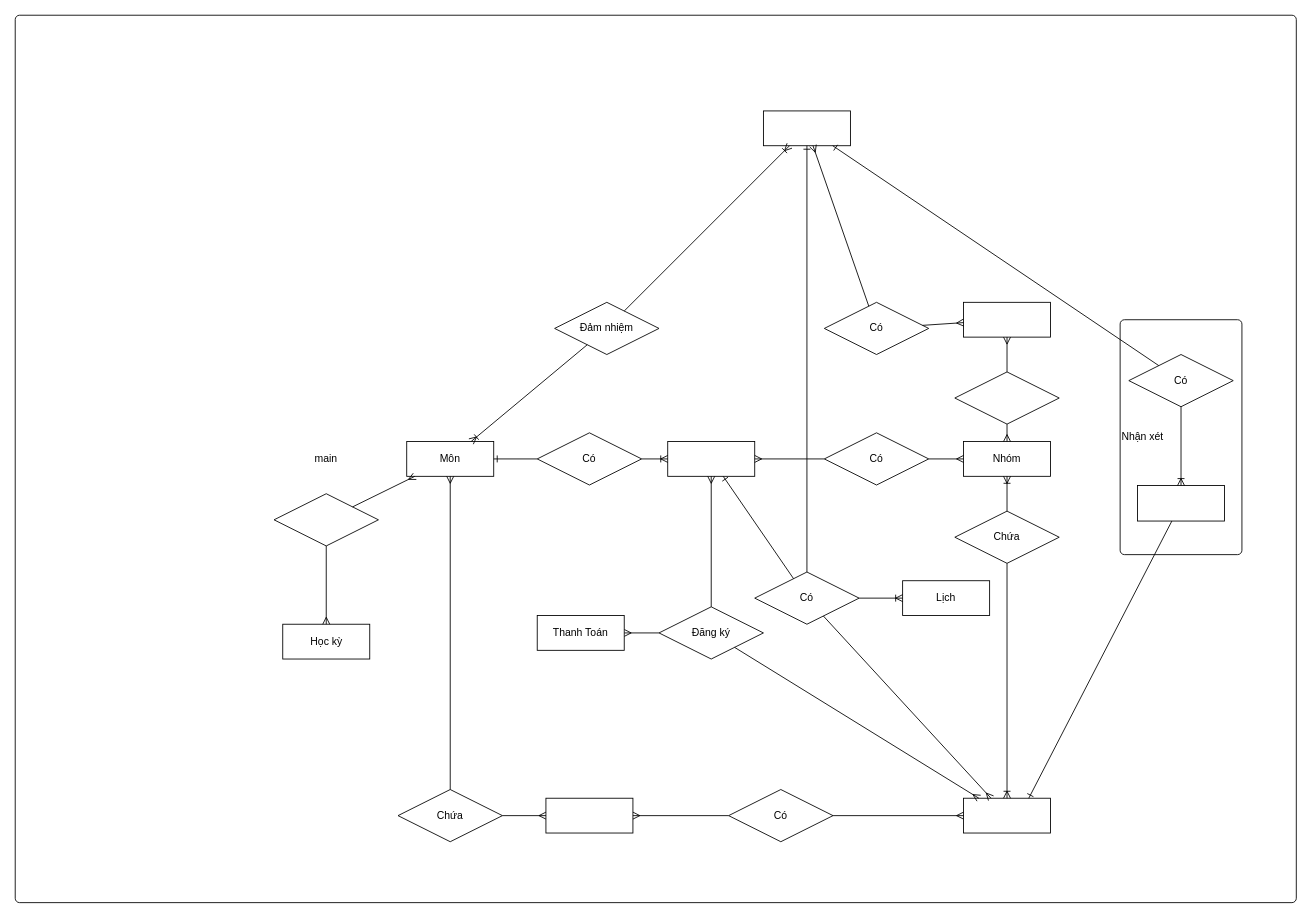
The diagram is 1312 pixels wide and 918 high, and some of its shapes have lost their labels. Each missing label, with the centre of its shape:
Bộ: the point at 589,815
Giảng viên: the point at 806,128
Gồm: the point at 1006,397
Học viên: the point at 1007,815
Lớp: the point at 711,458
Thuộc: the point at 325,519
Vấn đề: the point at 1181,503
Yêu cầu: the point at 1007,319
